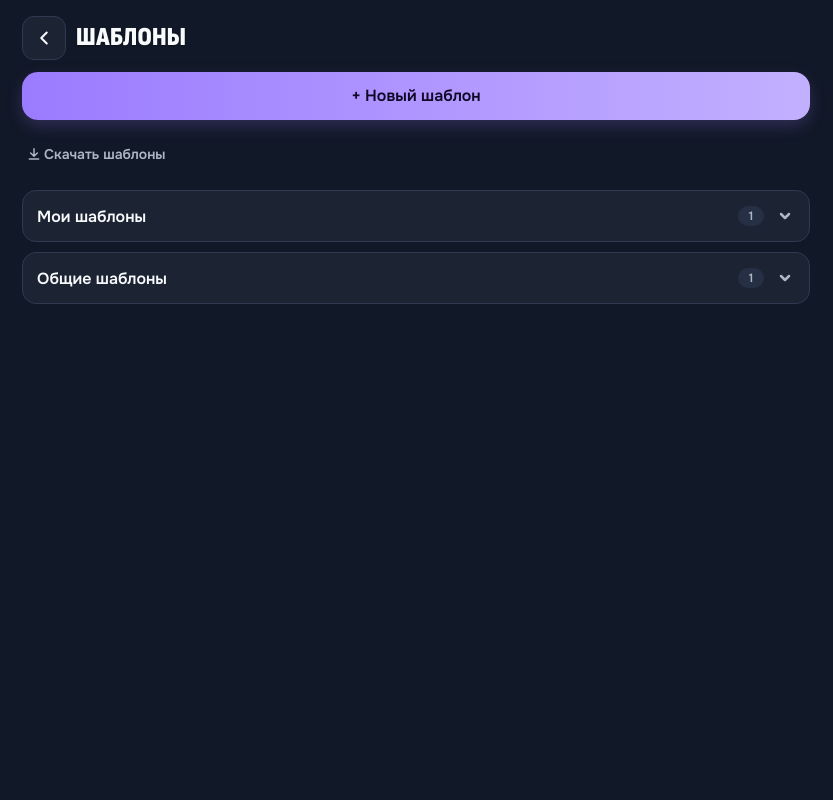
Test case: TemplatesScreen — список › «Скачать» при свернутых группах показывает карточки — есть что выбирать (UI-ревью 23.10)
Check: the text "Спина" is not shown
Click the button "Скачать шаблоны".
click(96, 154)  # box left=22, top=132, right=170, bottom=176
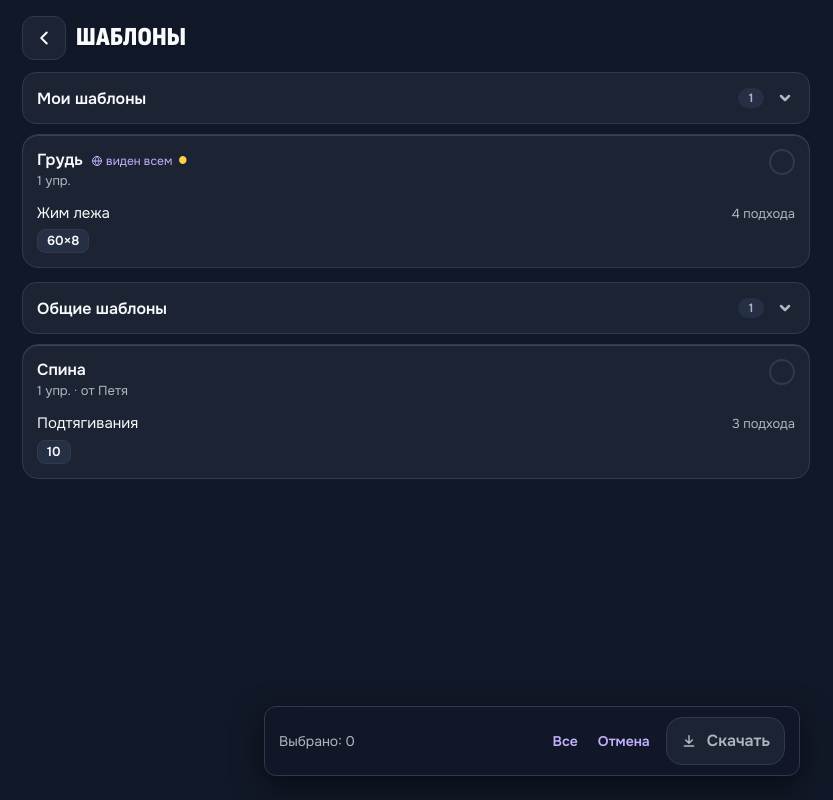
Check: the text "Грудь" is shown, box left=37, top=149, right=83, bottom=170
Check: the text "Спина" is shown, box left=37, top=359, right=86, bottom=380
